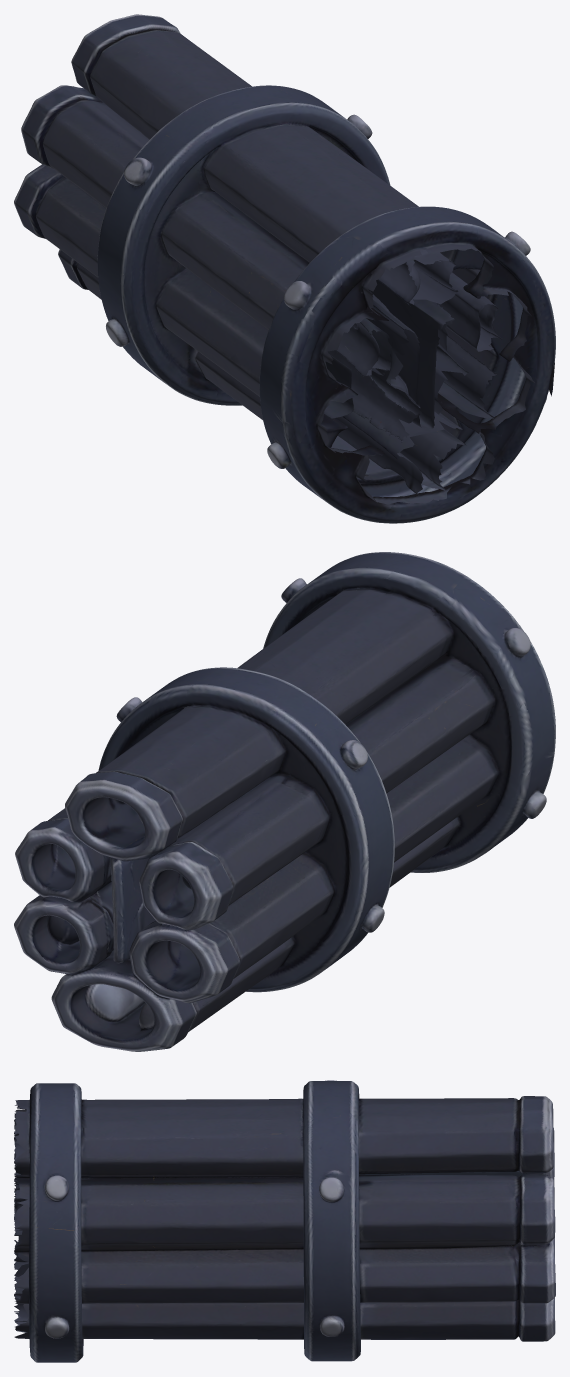
Rendered from crank_gatling_barrels.glb.
The picture shows the model from 3 angles, top to bottom: view 1: azimuth 30°, elevation 25°; view 2: azimuth 150°, elevation 25°; view 3: azimuth 270°, elevation 25°; orthographic projection. The views are drawn at different scales.
Visible parts, largest first — view 1: barrels; view 2: barrels; view 3: barrels.
Part boxes in pixels (x1,y1,x2,y2): barrels: (14,14,555,523); barrels: (14,552,555,1051); barrels: (14,1080,555,1362).
Size of the model in its own units: 0.0969 by 0.1003 by 0.194.
Materials: 1 (1 with a texture image).
